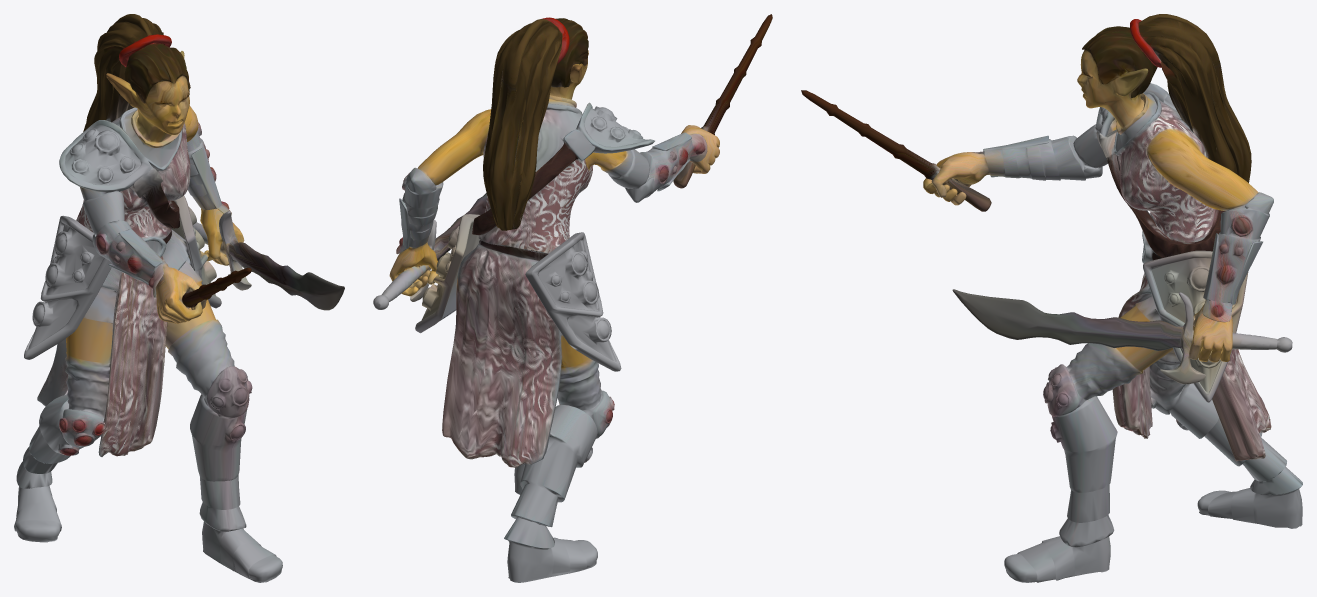
Rendered from MZ4250 - Githyanki Gish Female 01.glb.
3 renders of one model, left to right at view 1: azimuth 30°, elevation 25°; view 2: azimuth 150°, elevation 25°; view 3: azimuth 270°, elevation 25°, orthographic. The views are drawn at different scales.
Visible parts, largest first — view 1: default; view 2: default; view 3: default.
Boxes of the visible parts, x1,y1,x2,y2 form: default: (14,14,344,582); default: (373,14,772,582); default: (801,14,1302,582).
Size of the model in its own units: 0.515 by 1.14 by 0.9754.
Materials: 1 (1 with a texture image).
